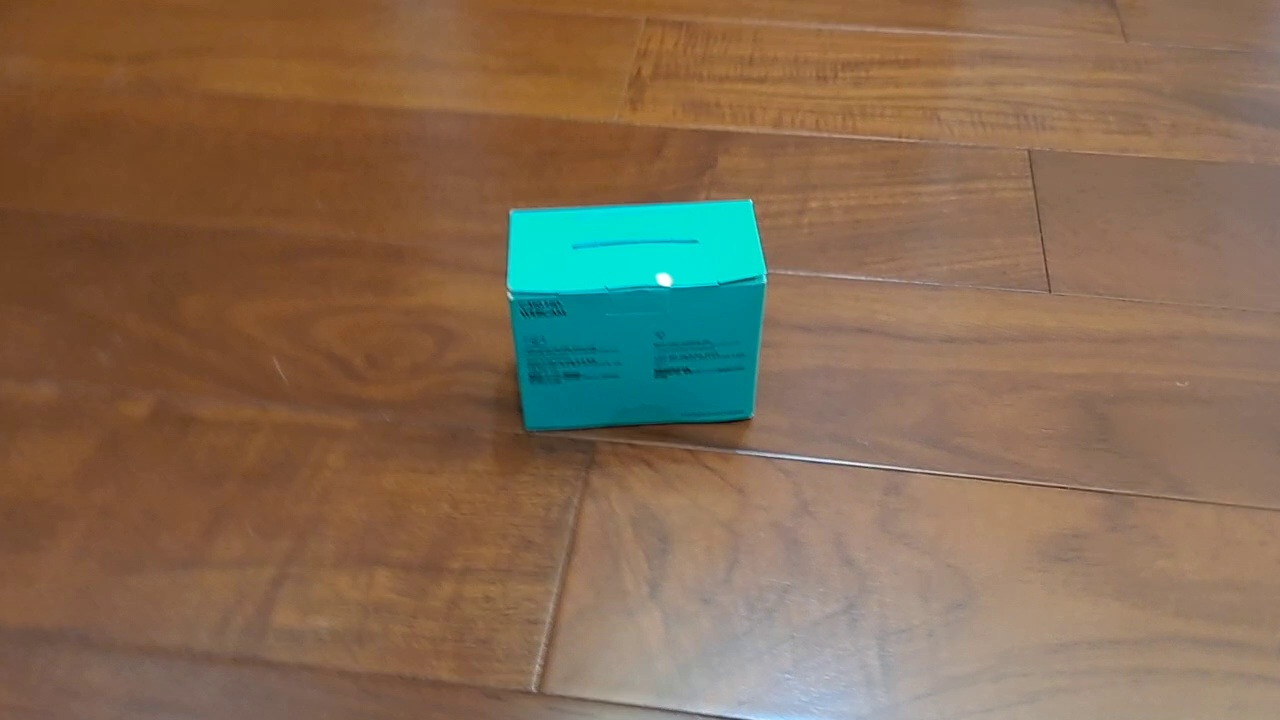webcam: (503, 195, 770, 434)
